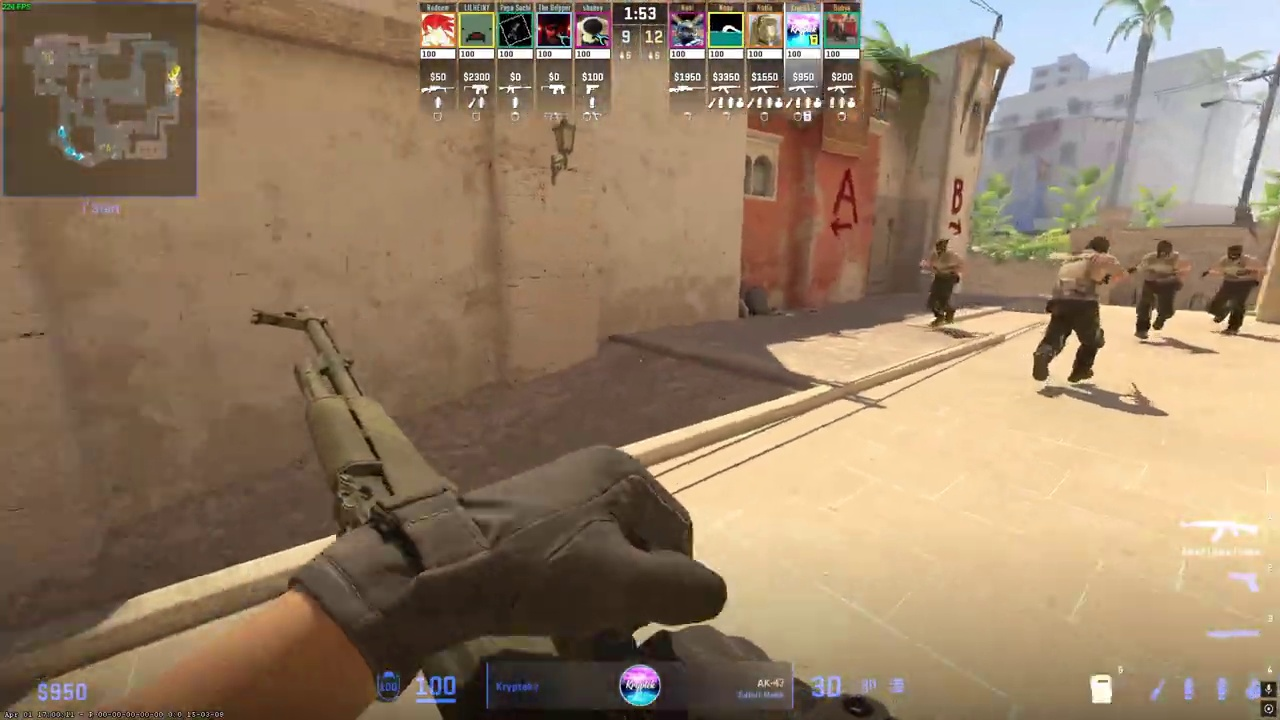Terrorist: (1037, 236, 1122, 383), (1132, 240, 1190, 339), (1208, 244, 1255, 336), (921, 239, 965, 327)
